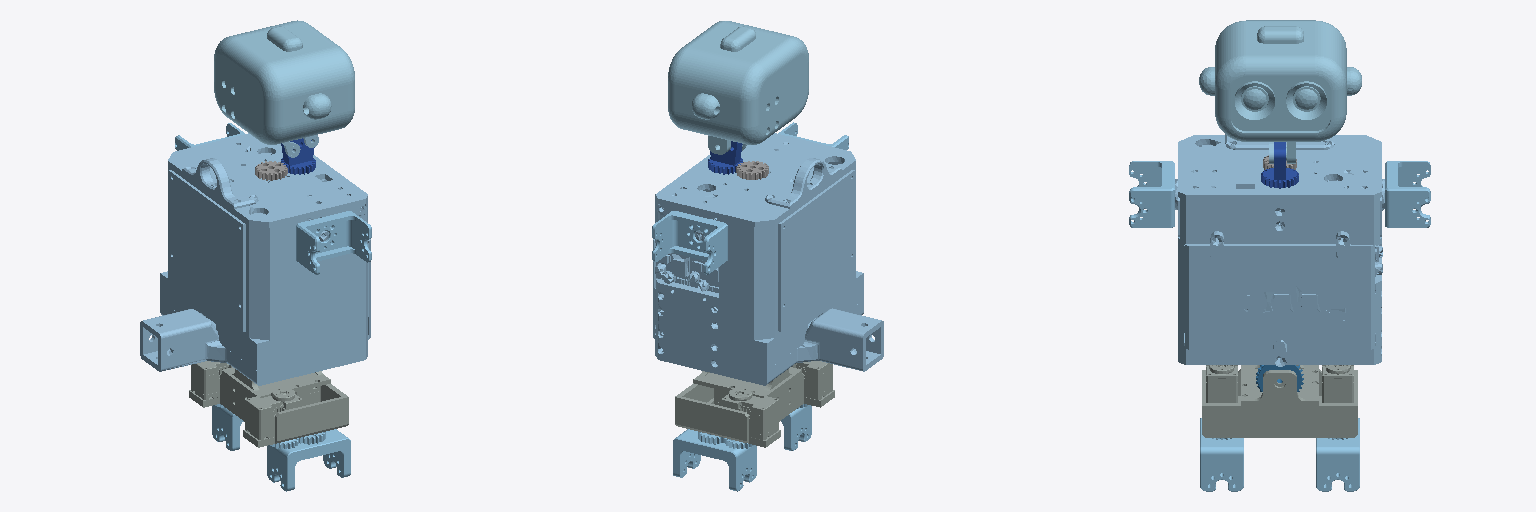
--- Render facts (derived) ---
Views: 3 orthographic renders of the robot side by side, from view 1: azimuth 30°, elevation 25°; view 2: azimuth 150°, elevation 25°; view 3: azimuth 270°, elevation 25°.
Robot: toddlerbot — 21 links, 20 joints (18 revolute, 2 fixed); root link torso; default pose: all joints at 0.
Visible links, largest first — view 1: torso, head, waist_link, right_arm_hand, right_leg_xm430, left_leg_xm430, neck_yaw_link_v2; view 2: torso, head, waist_link, left_arm_hand, left_leg_xm430, right_leg_xm430, neck_yaw_link_v2; view 3: torso, head, waist_link, left_arm_hand, right_arm_hand, left_leg_xm430, right_leg_xm430, neck_yaw_link_v2.
Boxes of the visible links, box(x1,y1,x2,y2) form: torso: box(140, 133, 370, 385); head: box(214, 20, 354, 144); waist_link: box(189, 361, 348, 447); right_arm_hand: box(296, 211, 371, 274); right_leg_xm430: box(267, 429, 350, 491); left_leg_xm430: box(212, 405, 243, 450); neck_yaw_link_v2: box(281, 138, 315, 174); torso: box(653, 133, 883, 385); head: box(668, 21, 808, 154); waist_link: box(675, 361, 834, 447); left_arm_hand: box(652, 211, 727, 274); left_leg_xm430: box(673, 429, 756, 491); right_leg_xm430: box(781, 405, 811, 450); neck_yaw_link_v2: box(708, 141, 742, 174); torso: box(1175, 134, 1384, 366); head: box(1199, 20, 1361, 163); waist_link: box(1202, 365, 1357, 437); left_arm_hand: box(1385, 161, 1430, 227); right_arm_hand: box(1129, 161, 1174, 227); left_leg_xm430: box(1316, 418, 1359, 491); right_leg_xm430: box(1200, 418, 1243, 491); neck_yaw_link_v2: box(1261, 142, 1298, 188).
Size in the robot's own frame: 0.141 by 0.192 by 0.3154 metres.
Meshes: 21 distinct files referenced, 21 mesh visuals loaded (21 binary STL).

The robot description file, URDF, robot "toddlerbot":
<?xml version="1.0" ?><robot name="toddlerbot">  
  <link name="torso">    
    <visual>      
      <origin xyz="0 0 0" rpy="0 -0 0"/>      
      <geometry>        
        <mesh filename="package:///meshes/torso_visual.stl"/>        
      </geometry>      
      <material name="torso_material">        
        <color rgba="0.63516273151698243726 0.78981928681973512241 0.89663049964256791302 1.0"/>        
      </material>      
    </visual>    
    <collision>      
      <origin xyz="0 0 0" rpy="0 -0 0"/>      
      <geometry>        
        <mesh filename="package:///meshes/torso_collision.stl"/>        
      </geometry>      
    </collision>    
    <inertial>      
      <origin xyz="-0.0048722525217245026691 -0.003034303452353634932 0.065731716369313880621" rpy="0 0 0"/>      
      <mass value="1.1229659631011945642"/>      
      <inertia ixx="0.0029864200494844057691" ixy="7.6544013873600596316e-05" ixz="1.6162160592159903103e-05" iyy="0.0024009089586494794522" iyz="-2.6100607927069047675e-05" izz="0.0025052134874968133744"/>      
    </inertial>    
  </link>  

  <link name="spur_1m_20t">    
    <visual>      
      <origin xyz="0 0 0" rpy="0 -0 0"/>      
      <geometry>        
        <mesh filename="package:///meshes/spur_1m_20t_visual.stl"/>        
      </geometry>      
      <material name="spur_1m_20t_material">        
        <color rgba="0.64705882352941179736 0.64705882352941179736 0.64705882352941179736 1.0"/>        
      </material>      
    </visual>    
    <collision>      
      <origin xyz="0 0 0" rpy="0 -0 0"/>      
      <geometry>        
        <mesh filename="package:///meshes/spur_1m_20t_collision.stl"/>        
      </geometry>      
    </collision>    
    <inertial>      
      <origin xyz="-1.7411803694581147988e-19 -8.1718749464796366429e-18 0.003384232105434467619" rpy="0 0 0"/>      
      <mass value="0.0015778025963745997712"/>      
      <inertia ixx="4.5874424196602078292e-08" ixy="3.9189074979405055341e-24" ixz="-7.1097175513400442172e-39" iyy="4.5874424196602051822e-08" iyz="7.8419015231486103005e-38" izz="8.1737050837173862941e-08"/>      
    </inertial>    
  </link>  

  <joint name="neck_yaw_drive" type="revolute">    
    <origin xyz="-0.0049999999999995221878 3.1860588521011854095e-18 0.12148651076281755112" rpy="1.1607298201443905188e-14 1.6509758832059179101e-15 -5.3832337592600790636e-15"/>    
    <parent link="torso"/>    
    <child link="spur_1m_20t"/>    
    <axis xyz="0 0 1"/>    
    <limit effort="1" velocity="20" lower="-2.8797932657906435416" upper="2.8797932657906435416"/>    
    <joint_properties friction="0.0"/>    
  </joint>  

  <link name="neck_yaw_link_v2">    
    <visual>      
      <origin xyz="0 0 0" rpy="0 -0 0"/>      
      <geometry>        
        <mesh filename="package:///meshes/neck_yaw_link_v2_visual.stl"/>        
      </geometry>      
      <material name="neck_yaw_link_v2_material">        
        <color rgba="0.2313725490196078538 0.38039215686274507888 0.70588235294117662733 1.0"/>        
      </material>      
    </visual>    
    <collision>      
      <origin xyz="0 0 0" rpy="0 -0 0"/>      
      <geometry>        
        <mesh filename="package:///meshes/neck_yaw_link_v2_collision.stl"/>        
      </geometry>      
    </collision>    
    <inertial>      
      <origin xyz="-1.1403990894989882723e-06 -1.1841855022748836188e-10 0.008257184970100570065" rpy="0 0 0"/>      
      <mass value="0.0067298837334394089049"/>      
      <inertia ixx="5.2266067624768509962e-07" ixy="-6.3046404852550345303e-15" ixz="1.194940308445471148e-09" iyy="6.121851997955700108e-07" iyz="-2.6012874340399422568e-15" izz="2.8062851709981919258e-07"/>      
    </inertial>    
  </link>  

  <link name="head">    
    <visual>      
      <origin xyz="0 0 0" rpy="0 -0 0"/>      
      <geometry>        
        <mesh filename="package:///meshes/head_visual.stl"/>        
      </geometry>      
      <material name="head_material">        
        <color rgba="0.6268574946787414115 0.79455216272759310314 0.87652603342635482253 1.0"/>        
      </material>      
    </visual>    
    <collision>      
      <origin xyz="0 0 0" rpy="0 -0 0"/>      
      <geometry>        
        <mesh filename="package:///meshes/head_collision.stl"/>        
      </geometry>      
    </collision>    
    <inertial>      
      <origin xyz="-0.043832613261137853833 -0.010490240883705313421 -0.00040226032898233550147" rpy="0 0 0"/>      
      <mass value="0.12772101760550844118"/>      
      <inertia ixx="0.0001150834912572321143" ixy="3.2199498087100703889e-06" ixz="3.6551948020729733223e-06" iyy="9.8737573554260360293e-05" iyz="-8.3059614999120791101e-06" izz="8.6247396675247271986e-05"/>      
    </inertial>    
  </link>  

  <link name="motor_plate">    
    <visual>      
      <origin xyz="0 0 0" rpy="0 -0 0"/>      
      <geometry>        
        <mesh filename="package:///meshes/motor_plate_visual.stl"/>        
      </geometry>      
      <material name="motor_plate_material">        
        <color rgba="0.64705882352941179736 0.64705882352941179736 0.64705882352941179736 1.0"/>        
      </material>      
    </visual>    
    <collision>      
      <origin xyz="0 0 0" rpy="0 -0 0"/>      
      <geometry>        
        <mesh filename="package:///meshes/motor_plate_collision.stl"/>        
      </geometry>      
    </collision>    
    <inertial>      
      <origin xyz="-1.3877787807814456755e-17 1.0408340855860841026e-17 -0.0028281768943845485807" rpy="0 0 0"/>      
      <mass value="0.0016999999999999996884"/>      
      <inertia ixx="4.805029073310371698e-08" ixy="1.0773753257370470989e-09" ixz="8.6222375027022660753e-36" iyy="5.1782428339099016964e-08" iyz="8.5565076078426530076e-37" izz="9.2194729037862183155e-08"/>      
    </inertial>    
  </link>  

  <link name="bearing_683">    
    <visual>      
      <origin xyz="0 0 0" rpy="0 -0 0"/>      
      <geometry>        
        <mesh filename="package:///meshes/bearing_683_visual.stl"/>        
      </geometry>      
      <material name="bearing_683_material">        
        <color rgba="0.64705882352941179736 0.64705882352941179736 0.64705882352941179736 1.0"/>        
      </material>      
    </visual>    
    <collision>      
      <origin xyz="0 0 0" rpy="0 -0 0"/>      
      <geometry>        
        <mesh filename="package:///meshes/bearing_683_collision.stl"/>        
      </geometry>      
    </collision>    
    <inertial>      
      <origin xyz="2.7862896558581346257e-17 -2.7513707872797354004e-17 -0.0015499999999999999455" rpy="0 0 0"/>      
      <mass value="0.00048694686130641793437"/>      
      <inertia ixx="2.1551456503319895657e-09" ixy="-2.2349065165105563807e-25" ixz="1.5117363048316738963e-37" iyy="2.1551456503319883249e-09" iyz="-1.4991787593073694529e-37" izz="3.5303647444715305817e-09"/>      
    </inertial>    
  </link>  

  <joint name="neck_pitch_front_rev_2" type="revolute">    
    <origin xyz="-0.0019411428382688777905 -0.0072444436971680140069 -0.0055000000000000014155" rpy="-6.4149072816529488098e-15 7.6581010280206250727e-15 0.88076594287809084616"/>    
    <parent link="motor_plate"/>    
    <child link="bearing_683"/>    
    <axis xyz="0 0 1"/>    
    <limit effort="1" velocity="20" lower="-6.283185307179586232" upper="6.283185307179586232"/>    
    <joint_properties friction="0.0"/>    
  </joint>  

  <link name="bearing_683_2">    
    <visual>      
      <origin xyz="0 0 0" rpy="0 -0 0"/>      
      <geometry>        
        <mesh filename="package:///meshes/bearing_683_2_visual.stl"/>        
      </geometry>      
      <material name="bearing_683_2_material">        
        <color rgba="0.64705882352941179736 0.64705882352941179736 0.64705882352941179736 1.0"/>        
      </material>      
    </visual>    
    <collision>      
      <origin xyz="0 0 0" rpy="0 -0 0"/>      
      <geometry>        
        <mesh filename="package:///meshes/bearing_683_2_collision.stl"/>        
      </geometry>      
    </collision>    
    <inertial>      
      <origin xyz="1.0732094295237683463e-19 2.4186774283160240656e-19 -0.0015499999999999999455" rpy="0 0 0"/>      
      <mass value="0.00048694686130641793437"/>      
      <inertia ixx="2.1551456503319887385e-09" ixy="9.7578640621250777055e-26" ixz="-6.152730879482004974e-40" iyy="2.1551456503319874977e-09" iyz="4.3097633785012721201e-40" izz="3.5303647444715305817e-09"/>      
    </inertial>    
  </link>  

  <joint name="neck_pitch_back_rev_2" type="revolute">    
    <origin xyz="0.0019411428382689055461 0.0072444436971680157417 -0.0055000000000000014155" rpy="-2.6894721862809934635e-13 -1.70427982545233833e-13 0.87787101658577615382"/>    
    <parent link="motor_plate"/>    
    <child link="bearing_683_2"/>    
    <axis xyz="0 0 1"/>    
    <limit effort="1" velocity="20" lower="-6.283185307179586232" upper="6.283185307179586232"/>    
    <joint_properties friction="0.0"/>    
  </joint>  

  <joint name="neck_pitch_act" type="revolute">    
    <origin xyz="-0.032615697718559516494 -0.026999999999999642342 0.0024999999999980927236" rpy="-3.1415926535897824579 -3.0391096960732561898e-13 -3.1415926535894773686"/>    
    <parent link="head"/>    
    <child link="motor_plate"/>    
    <axis xyz="0 0 1"/>    
    <limit effort="1" velocity="20" lower="-1.3962634015954635824" upper="0.61086523819801530344"/>    
    <joint_properties friction="0.0"/>    
  </joint>  

  <joint name="neck_pitch" type="revolute">    
    <origin xyz="-1.0061396160665481148e-16 0.0040000000000000607986 0.019400000000000028333" rpy="-1.570796326790486086 1.567169222346451507 3.1415926535866449676"/>    
    <parent link="neck_yaw_link_v2"/>    
    <child link="head"/>    
    <axis xyz="0 0 1"/>    
    <limit effort="1" velocity="20" lower="-1.3962634015954635824" upper="0.61086523819801530344"/>    
    <joint_properties friction="0.0"/>    
  </joint>  

  <link name="neck_rod">    
    <visual>      
      <origin xyz="0 0 0" rpy="0 -0 0"/>      
      <geometry>        
        <mesh filename="package:///meshes/neck_rod_visual.stl"/>        
      </geometry>      
      <material name="neck_rod_material">        
        <color rgba="0.62051618944235198416 0.78640765248647581664 0.88594253031295000511 1.0"/>        
      </material>      
    </visual>    
    <collision>      
      <origin xyz="0 0 0" rpy="0 -0 0"/>      
      <geometry>        
        <mesh filename="package:///meshes/neck_rod_collision.stl"/>        
      </geometry>      
    </collision>    
    <inertial>      
      <origin xyz="0.017942953356020419076 -4.2302323073851487499e-05 -0.0016023848482616159968" rpy="0 0 0"/>      
      <mass value="0.0031629468613064183613"/>      
      <inertia ixx="1.6183187611801733514e-08" ixy="4.3686324093919476193e-10" ixz="5.4098718285286100278e-10" iyy="7.9430220338151571918e-07" iyz="-1.2754318247154742971e-12" izz="8.0573905690510645668e-07"/>      
    </inertial>    
  </link>  

  <joint name="neck_pitch_front_rev_1" type="revolute">    
    <origin xyz="-0.0072444436971683887072 -0.0040000000000001223813 0.01745885716173128932" rpy="1.5707963267944309305 -0.8843930473262051617 -3.1415926535893787808"/>    
    <parent link="neck_yaw_link_v2"/>    
    <child link="neck_rod"/>    
    <axis xyz="0 0 1"/>    
    <limit effort="1" velocity="20" lower="-6.283185307179586232" upper="6.283185307179586232"/>    
    <joint_properties friction="0.0"/>    
  </joint>  

  <link name="neck_rod_2">    
    <visual>      
      <origin xyz="0 0 0" rpy="0 -0 0"/>      
      <geometry>        
        <mesh filename="package:///meshes/neck_rod_2_visual.stl"/>        
      </geometry>      
      <material name="neck_rod_2_material">        
        <color rgba="0.62051618944235198416 0.78640765248647581664 0.88594253031295000511 1.0"/>        
      </material>      
    </visual>    
    <collision>      
      <origin xyz="0 0 0" rpy="0 -0 0"/>      
      <geometry>        
        <mesh filename="package:///meshes/neck_rod_2_collision.stl"/>        
      </geometry>      
    </collision>    
    <inertial>      
      <origin xyz="0.017901072327983016258 4.2302323075204747993e-05 -0.0016023848482717385419" rpy="0 0 0"/>      
      <mass value="0.0031629468613064183613"/>      
      <inertia ixx="1.6183187611802643413e-08" ixy="-4.3584354919634348471e-10" ixz="5.3972445329632657527e-10" iyy="7.9343818800625886651e-07" iyz="1.2754318729384124892e-12" izz="8.0487504152983531034e-07"/>      
    </inertial>    
  </link>  

  <joint name="neck_pitch_back_rev_1" type="revolute">    
    <origin xyz="0.007244443697168208296 -0.0040000000000001215139 0.021341142838269100412" rpy="1.570796326794926312 -0.88149812103389046936 3.1415926535897855665"/>    
    <parent link="neck_yaw_link_v2"/>    
    <child link="neck_rod_2"/>    
    <axis xyz="0 0 1"/>    
    <limit effort="1" velocity="20" lower="-6.283185307179586232" upper="6.283185307179586232"/>    
    <joint_properties friction="0.0"/>    
  </joint>  

  <joint name="neck_yaw_driven" type="revolute">    
    <origin xyz="0.016000000000000621364 3.9122381713629107253e-19 0.12248651076281739936" rpy="1.5470695466536949876e-14 -3.0902695541116811913e-15 -8.6007558735577539147e-16"/>    
    <parent link="torso"/>    
    <child link="neck_yaw_link_v2"/>    
    <axis xyz="0 0 1"/>    
    <limit effort="1" velocity="20" lower="-2.6179938779914944114" upper="2.6179938779914944114"/>    
    <joint_properties friction="0.0"/>    
  </joint>  

  <link name="waist_gears">    
    <visual>      
      <origin xyz="0 0 0" rpy="0 -0 0"/>      
      <geometry>        
        <mesh filename="package:///meshes/waist_gears_visual.stl"/>        
      </geometry>      
      <material name="waist_gears_material">        
        <color rgba="0.26906161272592882261 0.52279219083255490386 0.70491767355474521661 1.0"/>        
      </material>      
    </visual>    
    <collision>      
      <origin xyz="0 0 0" rpy="0 -0 0"/>      
      <geometry>        
        <mesh filename="package:///meshes/waist_gears_collision.stl"/>        
      </geometry>      
    </collision>    
    <inertial>      
      <origin xyz="-2.9089024310344835968e-07 5.5035553745212688705e-08 -0.012592985430860511448" rpy="0 0 0"/>      
      <mass value="0.026337180140419174518"/>      
      <inertia ixx="1.5367047941032976421e-06" ixy="1.8828487098075703468e-11" ixz="4.0600521958548964489e-10" iyy="7.3024712275448216365e-06" iyz="3.291173783196110374e-12" izz="6.9859065635057444052e-06"/>      
    </inertial>    
  </link>  

  <link name="waist_link">    
    <visual>      
      <origin xyz="0 0 0" rpy="0 -0 0"/>      
      <geometry>        
        <mesh filename="package:///meshes/waist_link_visual.stl"/>        
      </geometry>      
      <material name="waist_link_material">        
        <color rgba="0.63430343020834178969 0.68126545235342628182 0.66860955758476403599 1.0"/>        
      </material>      
    </visual>    
    <collision>      
      <origin xyz="0 0 0" rpy="0 -0 0"/>      
      <geometry>        
        <mesh filename="package:///meshes/waist_link_collision.stl"/>        
      </geometry>      
    </collision>    
    <inertial>      
      <origin xyz="-7.9740521616280326004e-06 0.026228931551963423352 -0.02998428051279712972" rpy="0 0 0"/>      
      <mass value="0.1701195349061245532"/>      
      <inertia ixx="7.0275024401906955045e-05" ixy="6.4268611259925317636e-09" ixz="-3.6642841622762010822e-06" iyy="0.00020583820676506133407" iyz="-3.5576438610758414332e-06" izz="0.00016218669765393208351"/>      
    </inertial>    
  </link>  

  <link name="spiral_bevel_1m_14t_30deg">    
    <visual>      
      <origin xyz="0 0 0" rpy="0 -0 0"/>      
      <geometry>        
        <mesh filename="package:///meshes/spiral_bevel_1m_14t_30deg_visual.stl"/>        
      </geometry>      
      <material name="spiral_bevel_1m_14t_30deg_material">        
        <color rgba="0.64705882352941179736 0.64705882352941179736 0.64705882352941179736 1.0"/>        
      </material>      
    </visual>    
    <collision>      
      <origin xyz="0 0 0" rpy="0 -0 0"/>      
      <geometry>        
        <mesh filename="package:///meshes/spiral_bevel_1m_14t_30deg_collision.stl"/>        
      </geometry>      
    </collision>    
    <inertial>      
      <origin xyz="7.4971447279470471159e-10 7.1802237332913031801e-10 0.0066868955018979155808" rpy="0 0 0"/>      
      <mass value="0.00073261524436595481732"/>      
      <inertia ixx="1.3495056019478193356e-08" ixy="4.0596681197802678729e-17" ixz="8.5992550167062356727e-16" iyy="1.3495056150237190671e-08" iyz="-6.7913008216864562113e-16" izz="1.4355986549816400137e-08"/>      
    </inertial>    
  </link>  

  <joint name="waist_act_1" type="revolute">    
    <origin xyz="-2.3414432044644055064e-17 0.019600000000000124267 -0.01275000000000019347" rpy="1.5707963267948936714 1.5707963267948950037 0"/>    
    <parent link="waist_link"/>    
    <child link="spiral_bevel_1m_14t_30deg"/>    
    <axis xyz="0 0 1"/>    
    <limit effort="1" velocity="20" lower="-4.6774823953448034786" upper="4.6774823953448034786"/>    
    <joint_properties friction="0.0"/>    
  </joint>  

  <link name="spiral_bevel_1m_14t_30deg_2">    
    <visual>      
      <origin xyz="0 0 0" rpy="0 -0 0"/>      
      <geometry>        
        <mesh filename="package:///meshes/spiral_bevel_1m_14t_30deg_2_visual.stl"/>        
      </geometry>      
      <material name="spiral_bevel_1m_14t_30deg_2_material">        
        <color rgba="0.64705882352941179736 0.64705882352941179736 0.64705882352941179736 1.0"/>        
      </material>      
    </visual>    
    <collision>      
      <origin xyz="0 0 0" rpy="0 -0 0"/>      
      <geometry>        
        <mesh filename="package:///meshes/spiral_bevel_1m_14t_30deg_2_collision.stl"/>        
      </geometry>      
    </collision>    
    <inertial>      
      <origin xyz="5.7114255512524803038e-10 8.6684721775822544076e-10 0.0066868955018979155808" rpy="0 0 0"/>      
      <mass value="0.00073261524436595481732"/>      
      <inertia ixx="1.3495056008338566936e-08" ixy="8.2092430901240935917e-18" ixz="9.8948603407504713417e-16" iyy="1.3495056161376833634e-08" iyz="-4.707514473443887487e-16" izz="1.4355986549816406754e-08"/>      
    </inertial>    
  </link>  

  <joint name="waist_act_2" type="revolute">    
    <origin xyz="-1.4470390030684367241e-17 0.019600000000000561418 -0.032750000000000556444" rpy="1.5707963267948972241 1.3463968515392352732 -2.5409194566005071493e-16"/>    
    <parent link="waist_link"/>    
    <child link="spiral_bevel_1m_14t_30deg_2"/>    
    <axis xyz="0 0 1"/>    
    <limit effort="1" velocity="20" lower="-4.6774823953448034786" upper="4.6774823953448034786"/>    
    <joint_properties friction="0.0"/>    
  </joint>  

  <link name="spur_gear_19_teeth">    
    <visual>      
      <origin xyz="0 0 0" rpy="0 -0 0"/>      
      <geometry>        
        <mesh filename="package:///meshes/spur_gear_19_teeth_visual.stl"/>        
      </geometry>      
      <material name="spur_gear_19_teeth_material">        
        <color rgba="0.61568627450980395466 0.81176470588235294379 0.92941176470588238168 1.0"/>        
      </material>      
    </visual>    
    <collision>      
      <origin xyz="0 0 0" rpy="0 -0 0"/>      
      <geometry>        
        <mesh filename="package:///meshes/spur_gear_19_teeth_collision.stl"/>        
      </geometry>      
    </collision>    
    <inertial>      
      <origin xyz="3.982620680117638602e-10 -1.6001614920402937169e-10 0.010108515802794645205" rpy="0 0 0"/>      
      <mass value="0.0010324984452316548957"/>      
      <inertia ixx="3.3238560252068683086e-08" ixy="-2.6893322161694212647e-16" ixz="-1.3807194537611751814e-15" iyy="3.3238560155295367385e-08" iyz="1.5293509724853463311e-16" izz="4.0687617484182906052e-08"/>      
    </inertial>    
  </link>  

  <joint name="left_hip_yaw_drive" type="revolute">    
    <origin xyz="-0.03700000000000004674 0.03110000000000001652 -0.039199999999999998734" rpy="1.570796326794896558 -6.0440960687789003209e-17 3.141592653589793116"/>    
    <parent link="waist_link"/>    
    <child link="spur_gear_19_teeth"/>    
    <axis xyz="0 0 1"/>    
    <limit effort="1" velocity="20" lower="-1.7361433085627806516" upper="1.7361433085627806516"/>    
    <joint_properties friction="0.0"/>    
  </joint>  

  <link name="spur_gear_21_teeth">    
    <visual>      
      <origin xyz="0 0 0" rpy="0 -0 0"/>      
      <geometry>        
        <mesh filename="package:///meshes/spur_gear_21_teeth_visual.stl"/>        
      </geometry>      
      <material name="spur_gear_21_teeth_material">        
        <color rgba="0.61568627450980395466 0.81176470588235294379 0.92941176470588238168 1.0"/>        
      </material>      
    </visual>    
    <collision>      
      <origin xyz="0 0 0" rpy="0 -0 0"/>      
      <geometry>        
        <mesh filename="package:///meshes/spur_gear_21_teeth_collision.stl"/>        
      </geometry>      
    </collision>    
    <inertial>      
      <origin xyz="-4.3729139591556703921e-11 1.6127119597199833502e-11 0.002494565097368564837" rpy="0 0 0"/>      
      <mass value="0.0010254193609188259288"/>      
      <inertia ixx="3.2524278733440935307e-08" ixy="-1.4914712189193835363e-38" ixz="2.2080265684851786227e-38" iyy="3.2524278732748135148e-08" iyz="4.3384451924501422335e-37" izz="6.0814076151188752603e-08"/>      
    </inertial>    
  </link>  

  <link name="left_leg_xm430">    
    <visual>      
      <origin xyz="0 0 0" rpy="0 -0 0"/>      
      <geometry>        
        <mesh filename="package:///meshes/left_leg_xm430_visual.stl"/>        
      </geometry>      
      <material name="left_leg_xm430_material">        
        <color rgba="0.61568627450980395466 0.81176470588235294379 0.92941176470588238168 1.0"/>        
      </material>      
    </visual>    
    <collision>      
      <origin xyz="0 0 0" rpy="0 -0 0"/>      
      <geometry>        
        <mesh filename="package:///meshes/left_leg_xm430_collision.stl"/>        
      </geometry>      
    </collision>    
    <inertial>      
      <origin xyz="-7.651932752129559327e-20 -5.6834239798556453859e-19 -0.0098919667346054358098" rpy="0 0 0"/>      
      <mass value="0.017999999999999991701"/>      
      <inertia ixx="2.6483505271519523376e-06" ixy="-6.4092479739512348525e-41" ixz="-2.8702262763642955687e-36" iyy="7.705535799600823457e-06" iyz="2.5331536859936605928e-37" izz="7.7736682806805358371e-06"/>      
    </inertial>    
  </link>  

  <joint name="left_leg_fixed" type="fixed">    
    <origin xyz="2.168404344971008868e-18 -1.3877787807814456755e-17 0.0049999999999999905631" rpy="-3.1415926535897704674 -7.7860248023657121854e-31 -1.137084089218072634e-30"/>    
    <parent link="spur_gear_21_teeth"/>    
    <child link="left_leg_xm430"/>    
    <axis xyz="0 0 1"/>    
    <limit effort="1" velocity="20"/>    
    <joint_properties friction="0.0"/>    
  </joint>  

  <joint name="left_hip_yaw_driven" type="revolute">    
    <origin xyz="-0.037000000000000012046 0.04109999999999997683 -0.019500000000000017319" rpy="-1.5707963267949192065 -1.5707963267948790165 0"/>    
    <parent link="waist_link"/>    
    <child link="spur_gear_21_teeth"/>    
    <axis xyz="0 0 1"/>    
    <limit effort="1" velocity="20" lower="-1.570796326794896558" upper="1.570796326794896558"/>    
    <joint_properties friction="0.0"/>    
  </joint>  

  <link name="spur_gear_19_teeth_2">    
    <visual>      
      <origin xyz="0 0 0" rpy="0 -0 0"/>      
      <geometry>        
        <mesh filename="package:///meshes/spur_gear_19_teeth_2_visual.stl"/>        
      </geometry>      
      <material name="spur_gear_19_teeth_2_material">        
        <color rgba="0.61568627450980395466 0.81176470588235294379 0.92941176470588238168 1.0"/>        
      </material>      
    </visual>    
    <collision>      
      <origin xyz="0 0 0" rpy="0 -0 0"/>      
      <geometry>        
        <mesh filename="package:///meshes/spur_gear_19_teeth_2_collision.stl"/>        
      </geometry>      
    </collision>    
    <inertial>      
      <origin xyz="3.9826206801176391189e-10 -1.6001614920402937169e-10 0.010108515802794638266" rpy="0 0 0"/>      
      <mass value="0.0010324984452316548957"/>      
      <inertia ixx="3.3238560252068689703e-08" ixy="-2.6893322161694212647e-16" ixz="-1.3807194537611753786e-15" iyy="3.3238560155295367385e-08" iyz="1.5293509724853463311e-16" izz="4.0687617484182906052e-08"/>      
    </inertial>    
  </link>  

  <joint name="right_hip_yaw_drive" type="revolute">    
    <origin xyz="0.036999999999999942657 0.031100000000000009581 -0.039200000000000005673" rpy="1.57079632679489678 3.044498544160610484e-18 3.141592653589793116"/>    
    <parent link="waist_link"/>    
    <child link="spur_gear_19_teeth_2"/>    
    <axis xyz="0 0 1"/>    
    <limit effort="1" velocity="20" lower="-1.7361433085627806516" upper="1.7361433085627806516"/>    
    <joint_properties friction="0.0"/>    
  </joint>  

  <link name="spur_gear_21_teeth_2">    
    <visual>      
      <origin xyz="0 0 0" rpy="0 -0 0"/>      
      <geometry>        
        <mesh filename="package:///meshes/spur_gear_21_teeth_2_visual.stl"/>        
      </geometry>      
      <material name="spur_gear_21_teeth_2_material">        
        <color rgba="0.61568627450980395466 0.81176470588235294379 0.92941176470588238168 1.0"/>        
      </material>      
    </visual>    
    <collision>      
      <origin xyz="0 0 0" rpy="0 -0 0"/>      
      <geometry>        
        <mesh filename="package:///meshes/spur_gear_21_teeth_2_collision.stl"/>        
      </geometry>      
    </collision>    
    <inertial>      
      <origin xyz="-4.3729139591556703921e-11 -1.6127126536093737409e-11 0.0025054349026314465428" rpy="0 0 0"/>      
      <mass value="0.0010254193609188259288"/>      
      <inertia ixx="3.2524278733440935307e-08" ixy="9.6694257117435395665e-39" ixz="-2.1402570621690166588e-39" iyy="3.2524278732748135148e-08" iyz="-1.7530161696327481842e-38" izz="6.0814076151188752603e-08"/>      
    </inertial>    
  </link>  

  <link name="right_leg_xm430">    
    <visual>      
      <origin xyz="0 0 0" rpy="0 -0 0"/>      
      <geometry>        
        <mesh filename="package:///meshes/right_leg_xm430_visual.stl"/>        
      </geometry>      
      <material name="right_leg_xm430_material">        
        <color rgba="0.61568627450980395466 0.81176470588235294379 0.92941176470588238168 1.0"/>        
      </material>      
    </visual>    
    <collision>      
      <origin xyz="0 0 0" rpy="0 -0 0"/>      
      <geometry>        
        <mesh filename="package:///meshes/right_leg_xm430_collision.stl"/>        
      </geometry>      
    </collision>    
    <inertial>      
      <origin xyz="-7.6519327521300781244e-20 -5.6834239798552775333e-19 -0.0098919667346054427487" rpy="0 0 0"/>      
      <mass value="0.017999999999999991701"/>      
      <inertia ixx="2.6483505271519523376e-06" ixy="-1.5390984606506839002e-36" ixz="0" iyy="7.705535799600823457e-06" iyz="0" izz="7.7736682806805358371e-06"/>      
    </inertial>    
  </link>  

  <joint name="right_leg_fixed" type="fixed">    
    <origin xyz="-4.336808689942017736e-19 -6.9388939039072283776e-18 0.0050000000000000113798" rpy="-3.141592653589793116 9.3906761299382808154e-30 1.9103766403509957361e-30"/>    
    <parent link="spur_gear_21_teeth_2"/>    
    <child link="right_leg_xm430"/>    
    <axis xyz="0 0 1"/>    
    <limit effort="1" velocity="20"/>    
    <joint_properties friction="0.0"/>    
  </joint>  

  <joint name="right_hip_yaw_driven" type="revolute">    
    <origin xyz="0.03699999999999998429 0.041099999999999969891 -0.019500000000000017319" rpy="-1.570796326794896558 -1.570796326794896558 0"/>    
    <parent link="waist_link"/>    
    <child link="spur_gear_21_teeth_2"/>    
    <axis xyz="0 0 1"/>    
    <limit effort="1" velocity="20" lower="-1.570796326794896558" upper="1.570796326794896558"/>    
    <joint_properties friction="0.0"/>    
  </joint>  

  <joint name="waist_roll" type="revolute">    
    <origin xyz="-0.022707865260692055437 -1.3063957582126781116e-17 -0.013999999999999981209" rpy="-1.5707963267948956698 -5.9937357430034153564e-14 1.5707963267948785724"/>    
    <parent link="waist_gears"/>    
    <child link="waist_link"/>    
    <axis xyz="0 0 1"/>    
    <limit effort="1" velocity="20" lower="-0.52359877559829881566" upper="0.52359877559829881566"/>    
    <joint_properties friction="0.0"/>    
  </joint>  

  <joint name="waist_yaw" type="revolute">    
    <origin xyz="0 3.6977854932234928379e-32 -2.4651903288156618919e-32" rpy="-3.0322117681687121616e-16 -4.1243331367303576527e-15 3.1415926535897904515"/>    
    <parent link="torso"/>    
    <child link="waist_gears"/>    
    <axis xyz="0 0 1"/>    
    <limit effort="1" velocity="20" lower="-1.570796326794896558" upper="1.570796326794896558"/>    
    <joint_properties friction="0.0"/>    
  </joint>  

  <link name="left_arm_hand">    
    <visual>      
      <origin xyz="0 0 0" rpy="0 -0 0"/>      
      <geometry>        
        <mesh filename="package:///meshes/left_arm_hand_visual.stl"/>        
      </geometry>      
      <material name="left_arm_hand_material">        
        <color rgba="0.61568627450980395466 0.81176470588235294379 0.9294117647058824927 1.0"/>        
      </material>      
    </visual>    
    <collision>      
      <origin xyz="0 0 0" rpy="0 -0 0"/>      
      <geometry>        
        <mesh filename="package:///meshes/left_arm_hand_collision.stl"/>        
      </geometry>      
    </collision>    
    <inertial>      
      <origin xyz="5.8254247517541416907e-11 -5.126464256112098607e-05 0.0082440788127094901533" rpy="0 0 0"/>      
      <mass value="0.0085999999999999895972"/>      
      <inertia ixx="1.2272887040545787638e-06" ixy="-2.1429944215128323733e-14" ixz="-8.5847198376843733829e-15" iyy="2.9107306060364603147e-06" iyz="7.4623841398183067466e-09" izz="3.0803135950773470752e-06"/>      
    </inertial>    
  </link>  

  <joint name="left_sho_pitch" type="revolute">    
    <origin xyz="-0.0035000000000004693156 0.067000000000001086464 0.104236510762817286" rpy="-1.5707963267949081043 -4.127643409825574977e-14 3.4723733359249779961e-14"/>    
    <parent link="torso"/>    
    <child link="left_arm_hand"/>    
    <axis xyz="0 0 1"/>    
    <limit effort="1" velocity="20" lower="-3.141592653589793116" upper="1.570796326794896558"/>    
    <joint_properties friction="0.0"/>    
  </joint>  

  <link name="right_arm_hand">    
    <visual>      
      <origin xyz="0 0 0" rpy="0 -0 0"/>      
      <geometry>        
        <mesh filename="package:///meshes/right_arm_hand_visual.stl"/>        
      </geometry>      
      <material name="right_arm_hand_material">        
        <color rgba="0.61568627450980395466 0.81176470588235294379 0.9294117647058824927 1.0"/>        
      </material>      
    </visual>    
    <collision>      
      <origin xyz="0 0 0" rpy="0 -0 0"/>      
      <geometry>        
        <mesh filename="package:///meshes/right_arm_hand_collision.stl"/>        
      </geometry>      
    </collision>    
    <inertial>      
      <origin xyz="5.8254247517541416907e-11 -5.126464256112098607e-05 0.0082440788127094901533" rpy="0 0 0"/>      
      <mass value="0.0085999999999999895972"/>      
      <inertia ixx="1.2272887040545787638e-06" ixy="-2.1429944215128323733e-14" ixz="-8.5847198376843733829e-15" iyy="2.9107306060364603147e-06" iyz="7.4623841398183067466e-09" izz="3.0803135950773470752e-06"/>      
    </inertial>    
  </link>  

  <joint name="right_sho_pitch" type="revolute">    
    <origin xyz="-0.003499999999998689923 -0.067000000000001030953 0.10423651076281729988" rpy="-1.5707963267948885644 3.4812325502379109658e-14 -3.1415926535897562566"/>    
    <parent link="torso"/>    
    <child link="right_arm_hand"/>    
    <axis xyz="0 0 1"/>    
    <limit effort="1" velocity="20" lower="-1.570796326794896558" upper="3.141592653589793116"/>    
    <joint_properties friction="0.0"/>    
  </joint>  


</robot>
